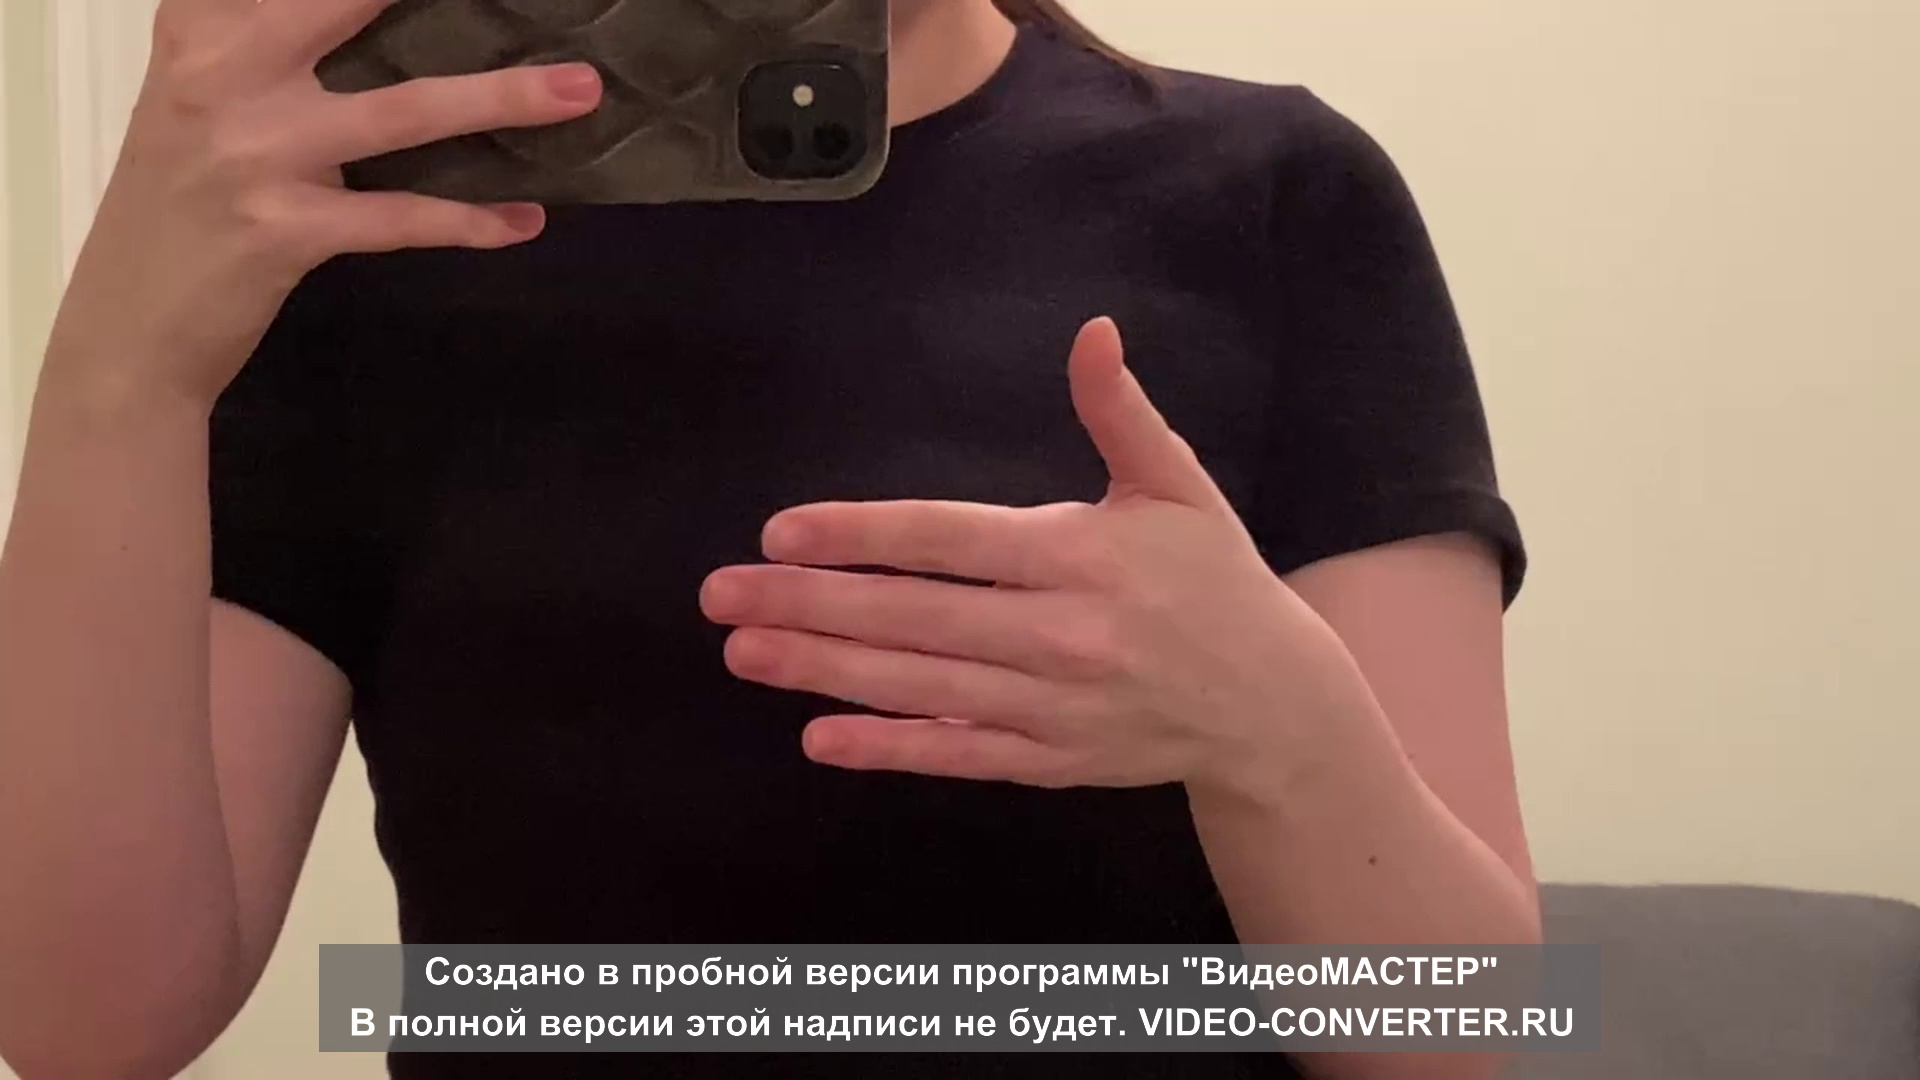Кисть: (700, 314, 1308, 793)
